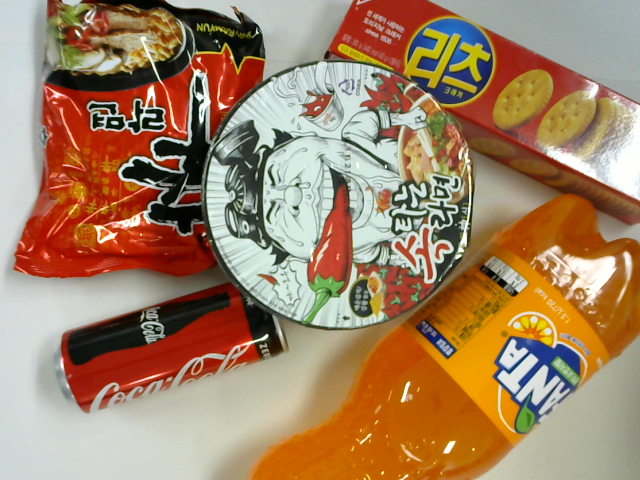Coca_Cola_Zero_Can_250ml: (52, 281, 289, 415)
HeJangsock: (204, 61, 474, 330)
Hwanta_Orange_1.5L: (249, 194, 639, 479)
Ritz_Cracker: (323, 1, 634, 225)
Sinramen: (11, 1, 266, 277)
